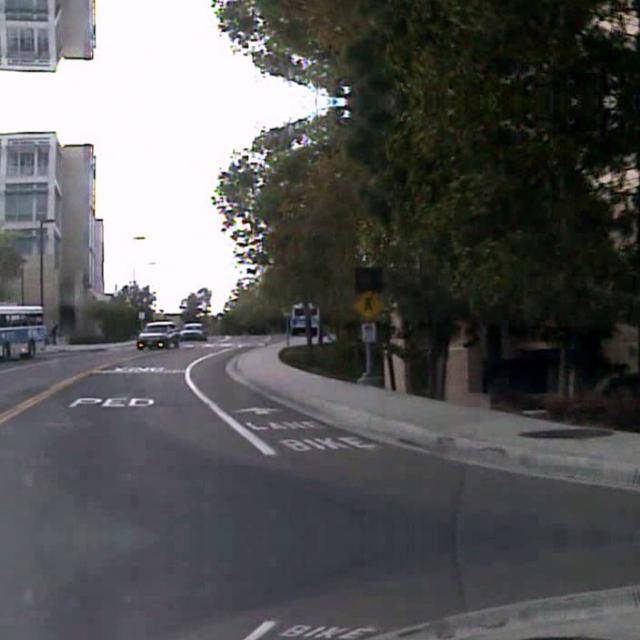pedestrianCrossing: (351, 288, 384, 320)
